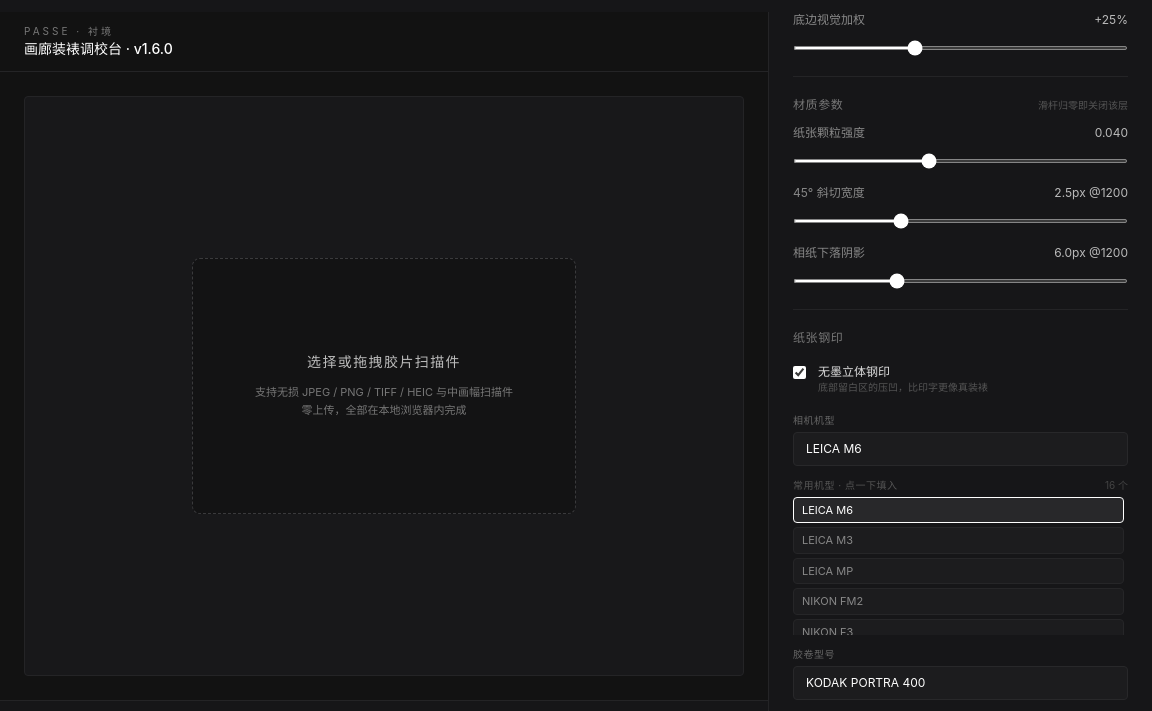
调校台 · 钢印的候选值 › 关掉钢印开关时两个列表都不出现
(page scrolled)
Expected: the button "LEICA M6" is shown, [793,497,1124,523]
Click the checkbox labelled "无墨立体钢印 底部留白区的压凹，比印字更像真装裱": (800, 372) [793,366,806,379]
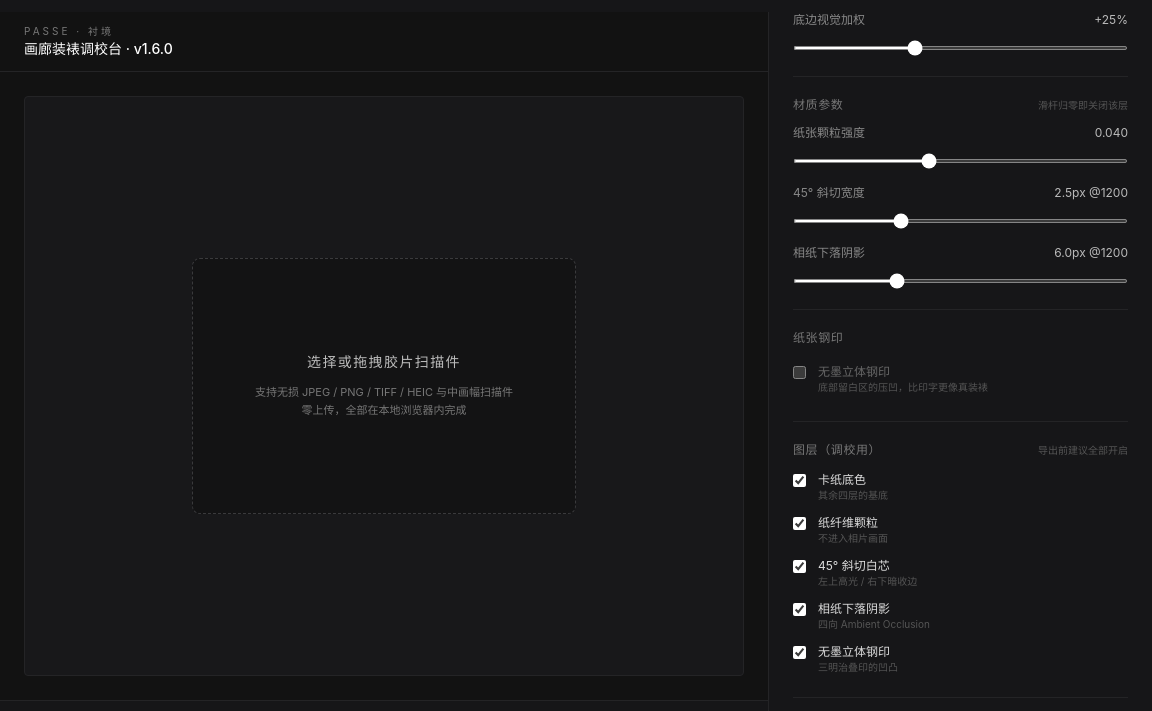
Expected: the text "常用机型" is gone
